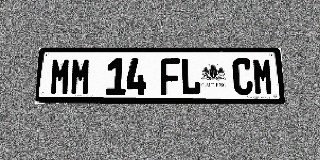1: (106, 58, 126, 95)
4: (126, 58, 147, 95)
C: (232, 58, 254, 95)
F: (161, 58, 180, 95)
L: (181, 58, 201, 95)
M: (49, 58, 71, 95), (252, 58, 274, 95), (70, 58, 91, 95)
